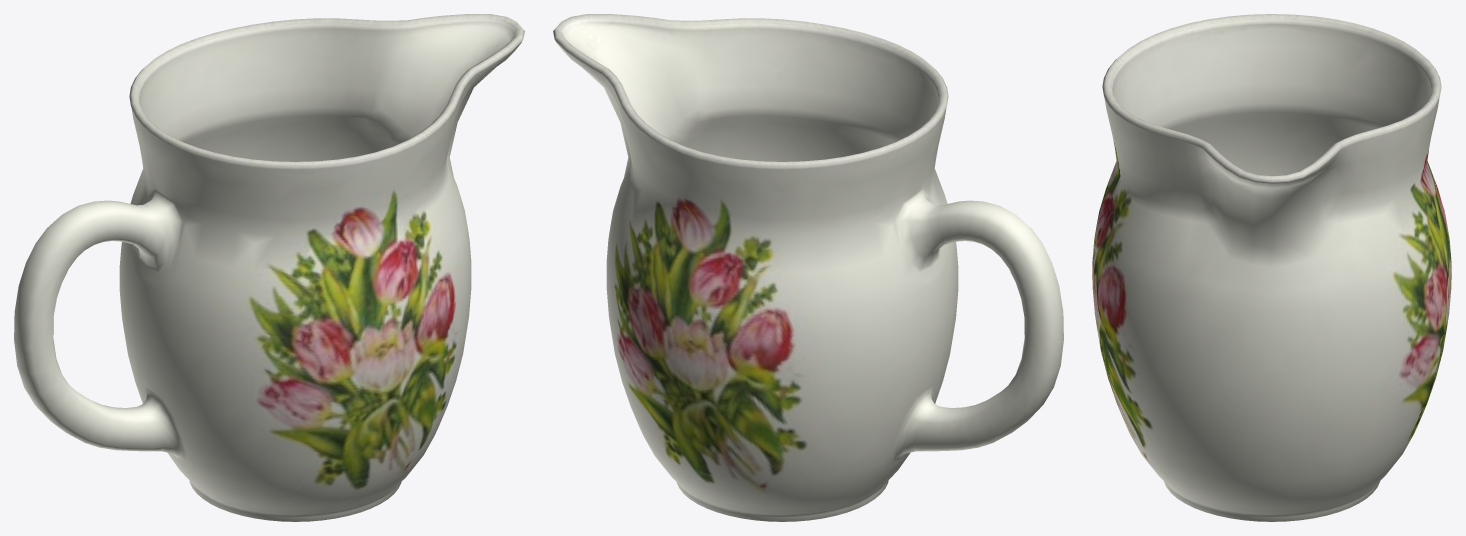
The model's file is jug_01.glb.
3 renders of one model, left to right at view 1: azimuth 30°, elevation 25°; view 2: azimuth 150°, elevation 25°; view 3: azimuth 270°, elevation 25°, orthographic. The views are drawn at different scales.
Visible parts, largest first — view 1: jug_01; view 2: jug_01; view 3: jug_01.
Boxes of the visible parts, box(x1,y1,x2,y2) form: jug_01: box(14, 14, 524, 521); jug_01: box(553, 14, 1063, 521); jug_01: box(1092, 14, 1451, 521).
Bounding box in the file's own units: 0.2753 × 0.2113 × 0.1675.
Materials: 1 (1 with a texture image).
